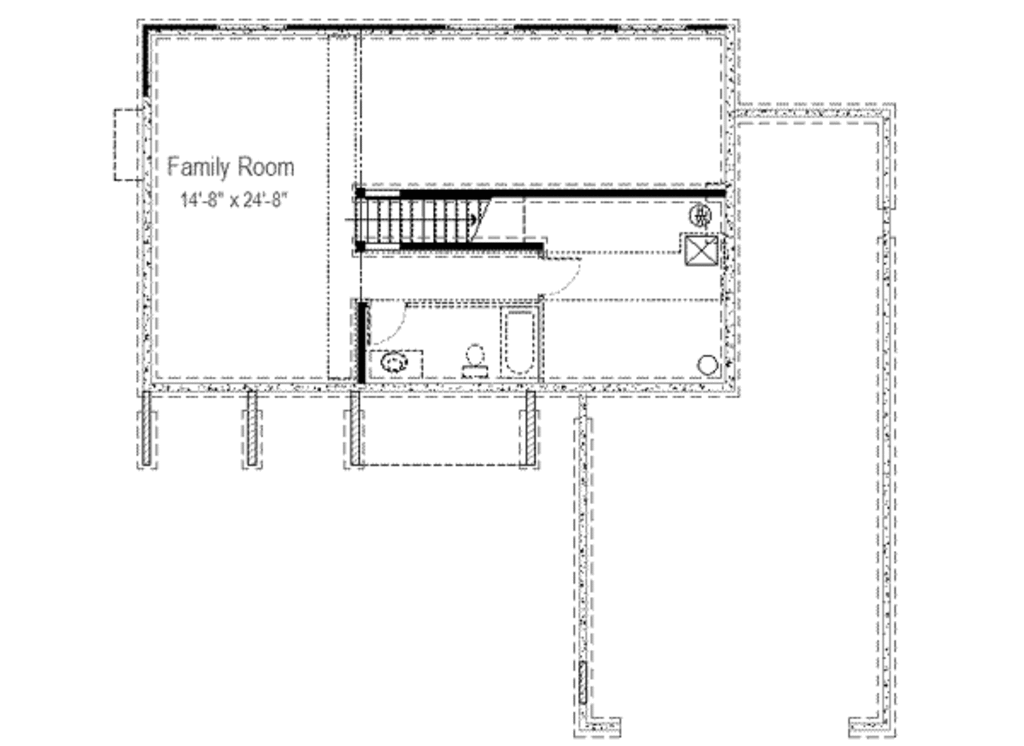door: (367, 299, 414, 343), (545, 259, 582, 295)
large_sink: (461, 331, 494, 381)
small_sink: (367, 353, 421, 377)
stairs: (354, 194, 544, 254)
tub: (489, 304, 538, 379)
